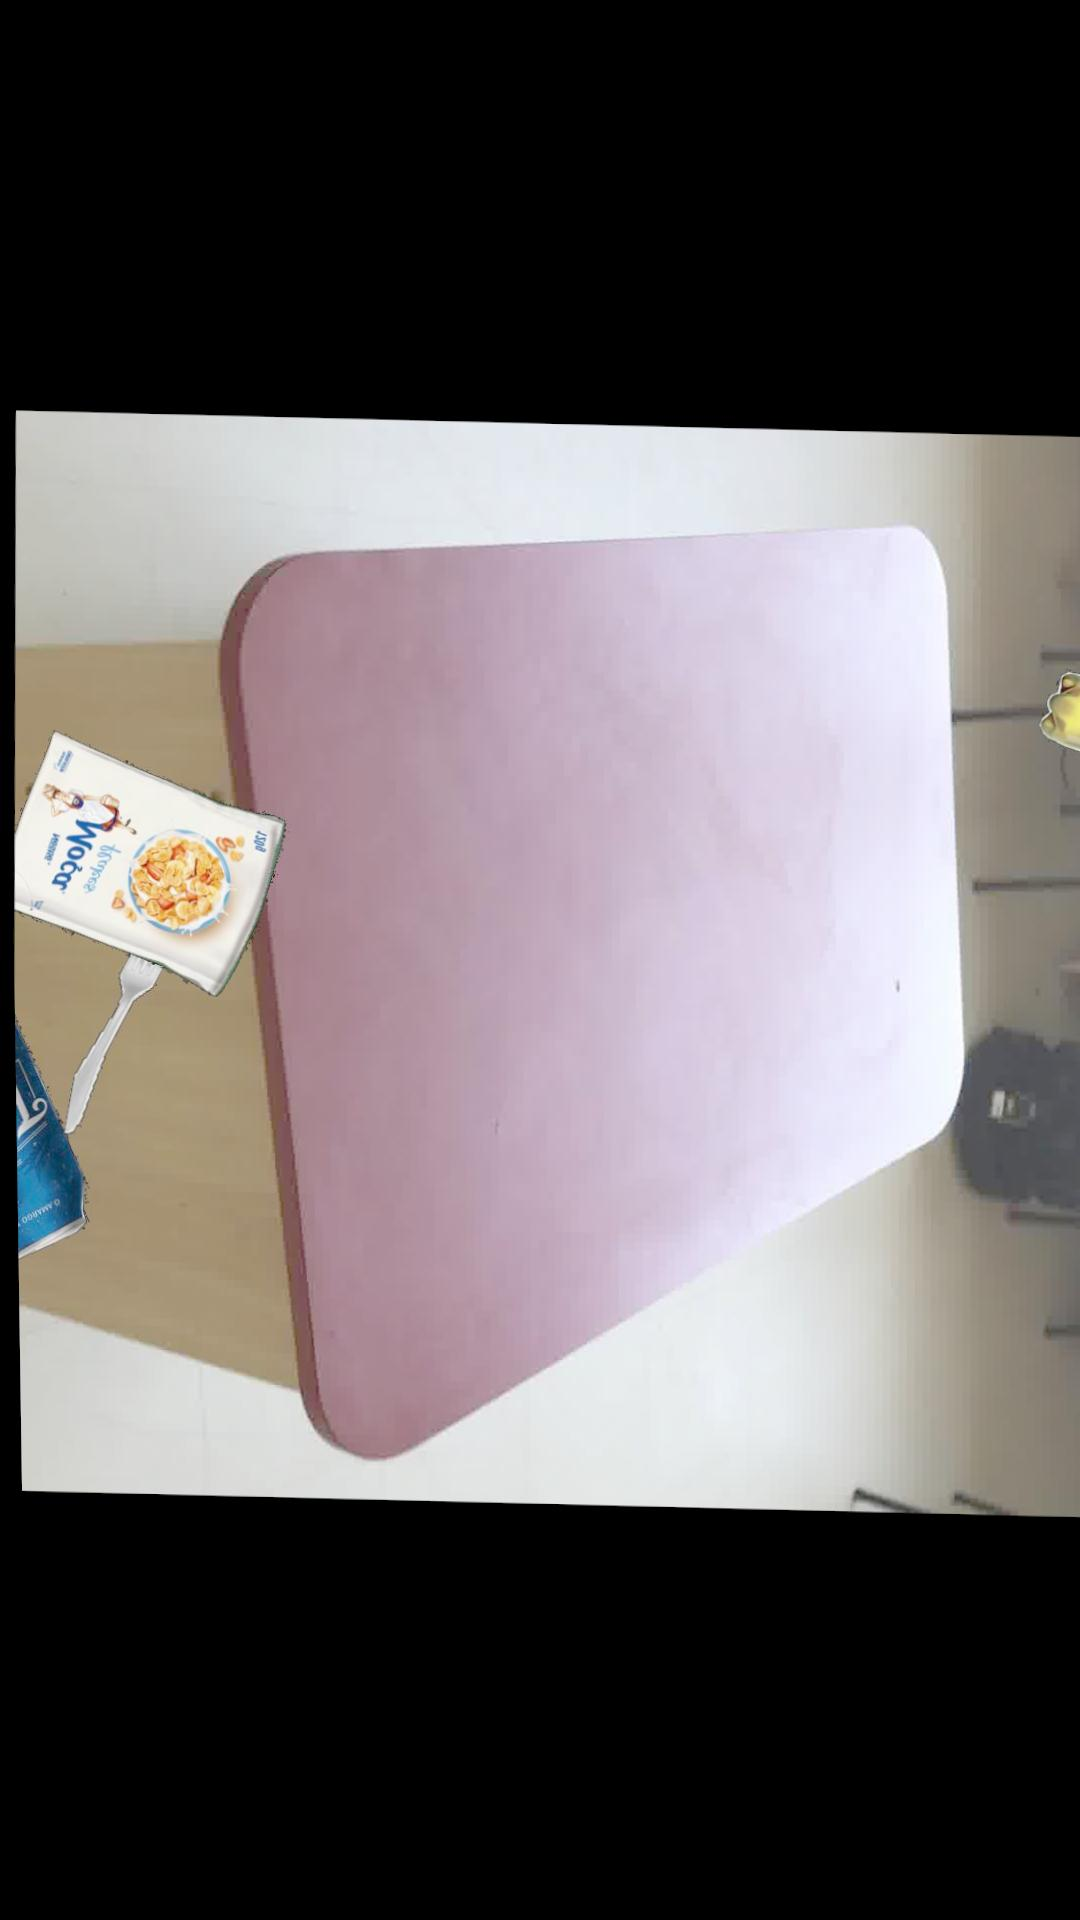corn flakes: (12, 729, 284, 994)
fork: (61, 953, 160, 1131)
guarana: (1036, 667, 1080, 750)
tonic: (12, 1018, 83, 1259)
